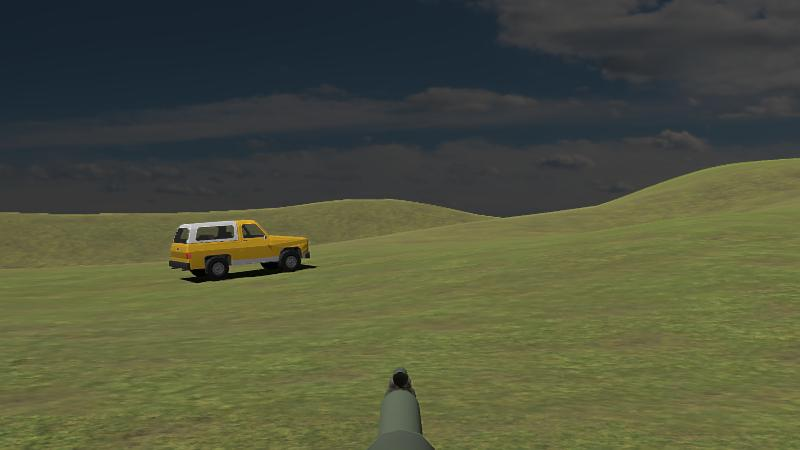car: (168, 219, 311, 282)
